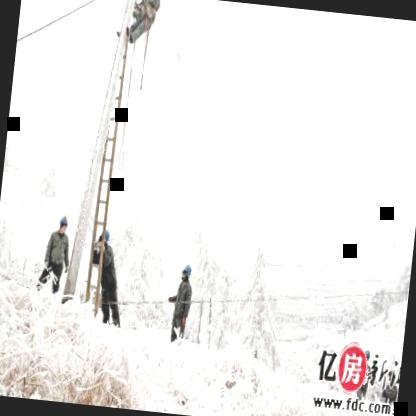helmet: (96, 228, 112, 255), (179, 262, 193, 284), (56, 212, 68, 235), (141, 0, 151, 3)
